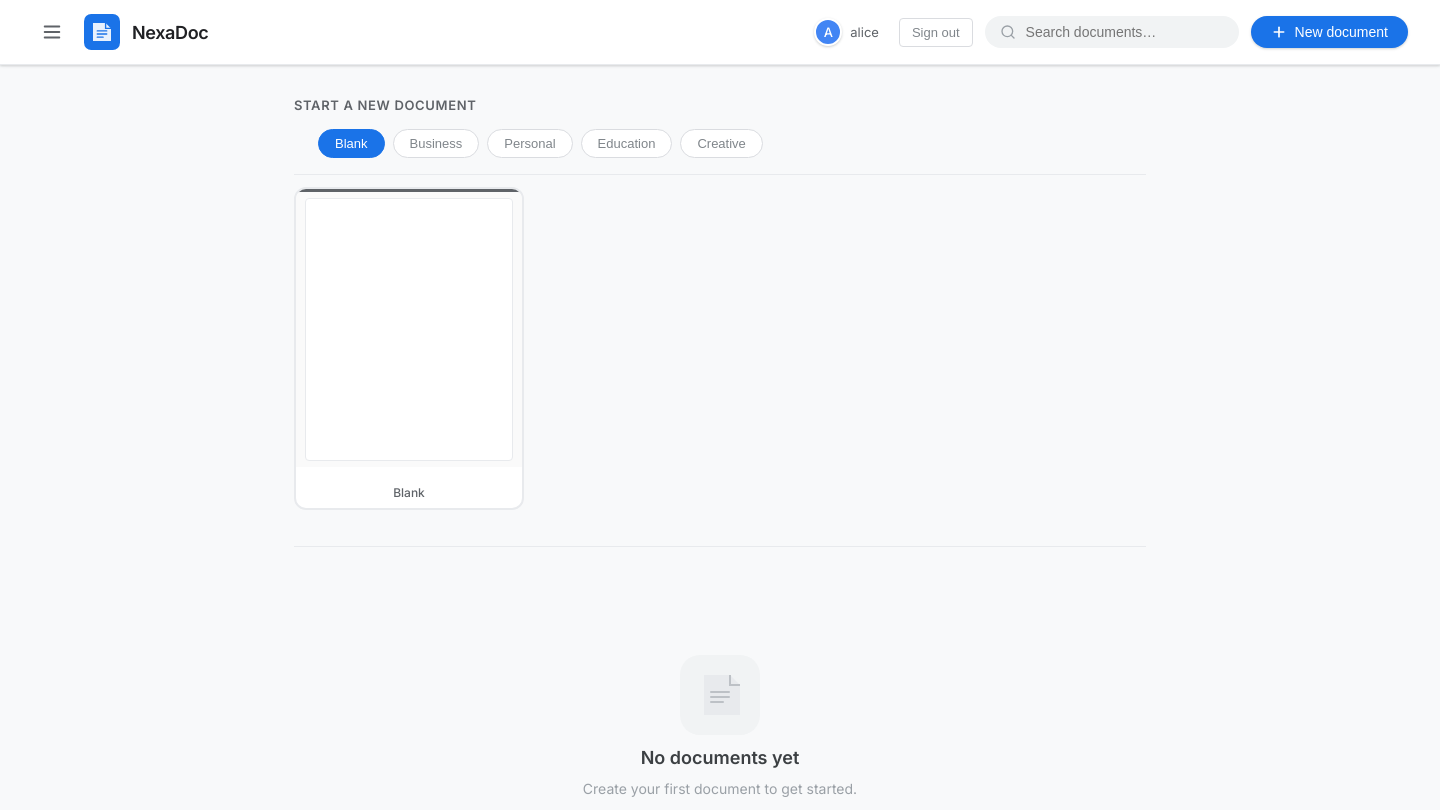
Test: DocsPage › closes naming modal on Cancel
This screenshot has width=1440, height=810.
Check: the text "Start a new document" is shown, box [294,97,476,113]
Click the 2nd button titled "Start from scratch" at x=409, y=348, box [294,187,524,510]
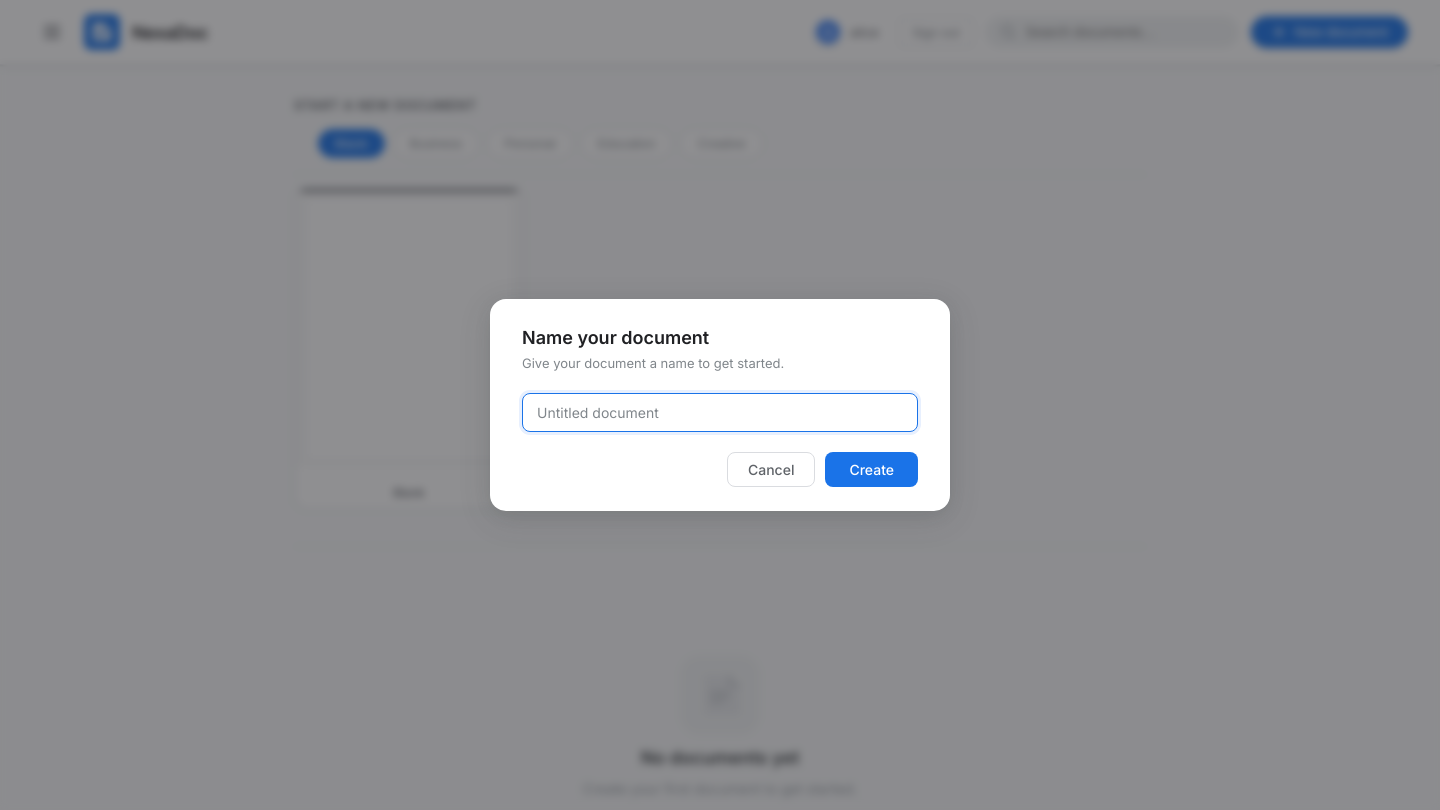
Check: the heading "Name your document" is shown, box [522,327,709,348]
Click the button "Cancel" at x=771, y=470, box [727,452,815,487]
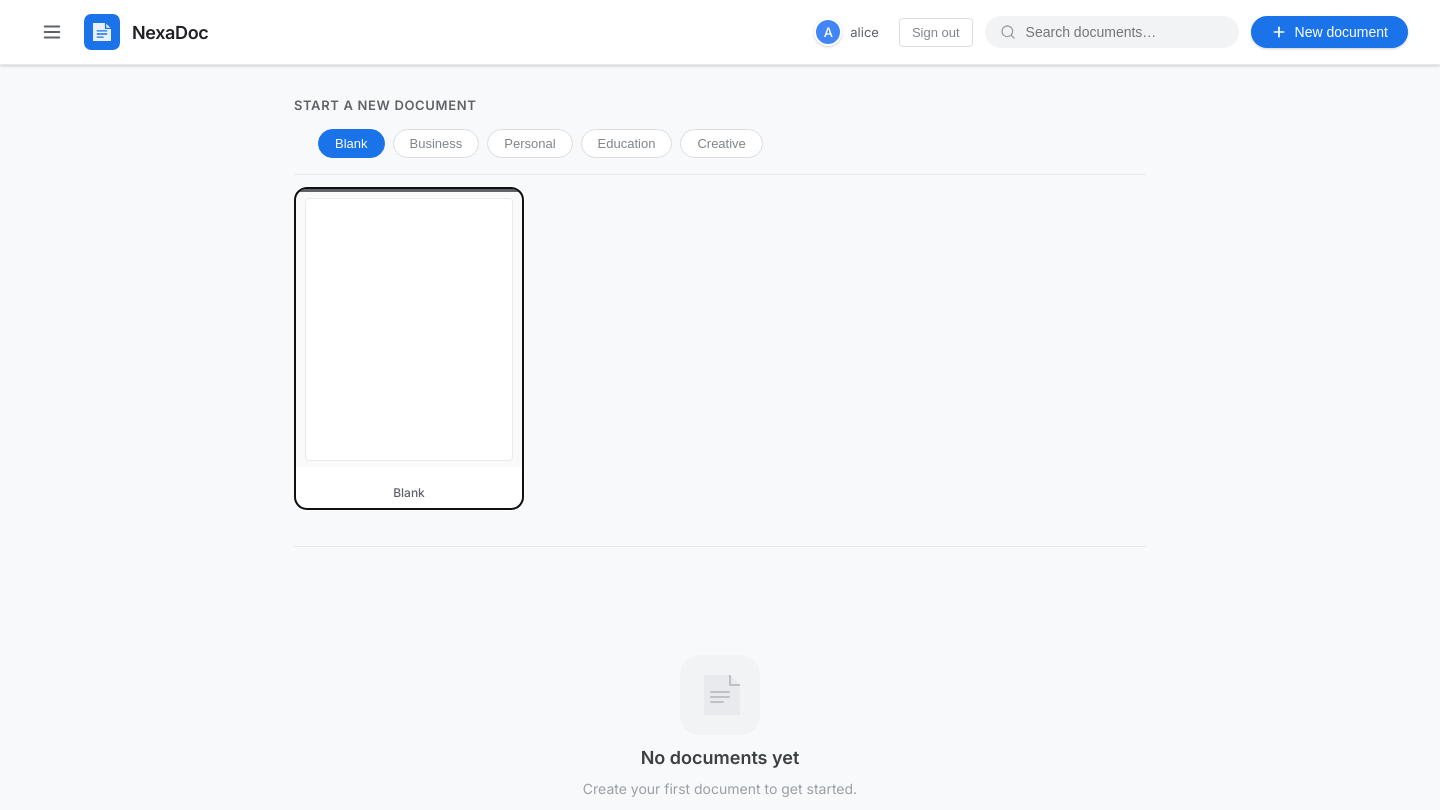
Check: the heading "Name your document" is gone
